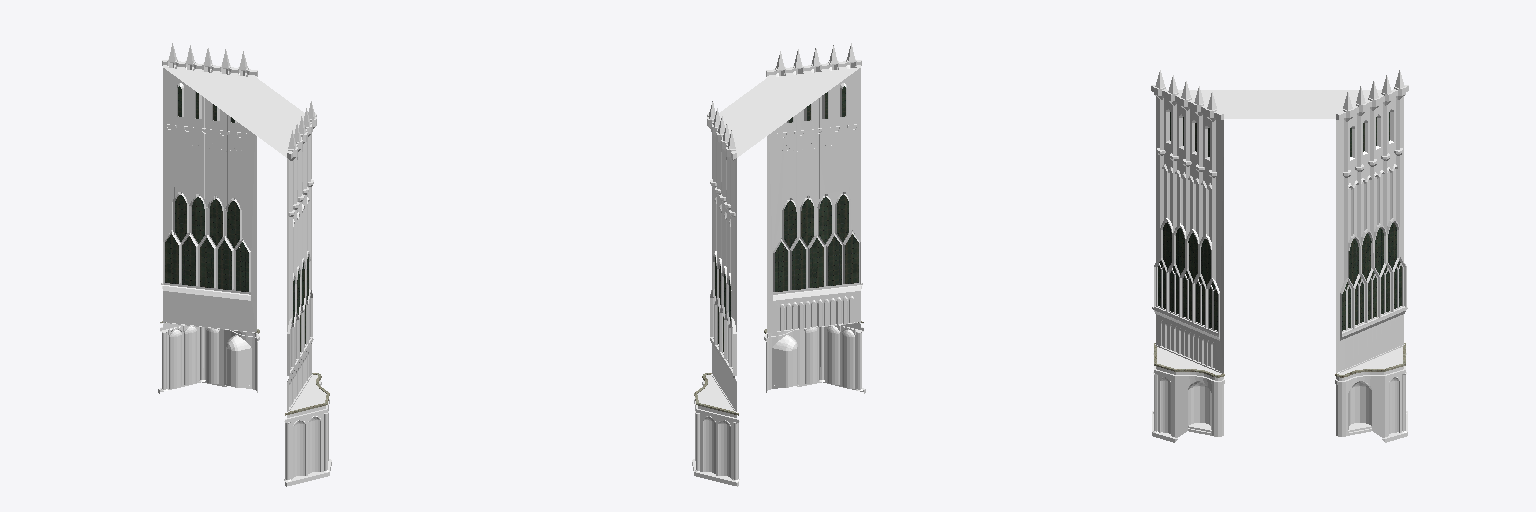
The picture shows the model from 3 angles: view 1: azimuth 30°, elevation 25°; view 2: azimuth 150°, elevation 25°; view 3: azimuth 270°, elevation 25°; orthographic projection.
Visible parts, largest first — view 1: mesh0, mesh4, mesh9, mesh5, mesh7; view 2: mesh0, mesh4, mesh9, mesh5; view 3: mesh0, mesh4, mesh5, mesh9, mesh8, mesh1.
Boxes of the visible parts, x1=… form: mesh0: x1=160, y1=59, x2=329, y2=479; mesh4: x1=158, y1=43, x2=331, y2=486; mesh9: x1=165, y1=86, x2=308, y2=351; mesh5: x1=168, y1=62, x2=320, y2=425; mesh7: x1=161, y1=285, x2=311, y2=381; mesh0: x1=694, y1=59, x2=863, y2=479; mesh4: x1=692, y1=43, x2=865, y2=486; mesh9: x1=715, y1=86, x2=858, y2=351; mesh5: x1=703, y1=62, x2=855, y2=425; mesh0: x1=1151, y1=85, x2=1408, y2=437; mesh4: x1=1152, y1=70, x2=1407, y2=442; mesh5: x1=1160, y1=98, x2=1399, y2=381; mesh9: x1=1158, y1=112, x2=1401, y2=330; mesh8: x1=1345, y1=318, x2=1399, y2=368; mesh1: x1=1154, y1=343, x2=1405, y2=377.
Bounding box in the file's own units: 11.8 × 59.2 × 39.54.
Materials: 10 (2 with a texture image).